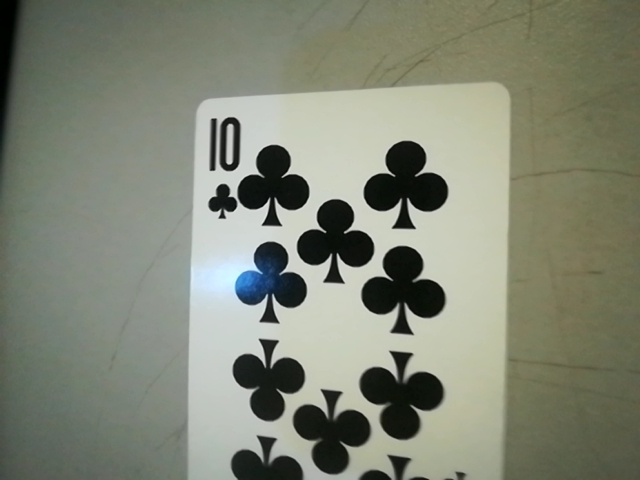mh 10: (190, 105, 249, 224)
